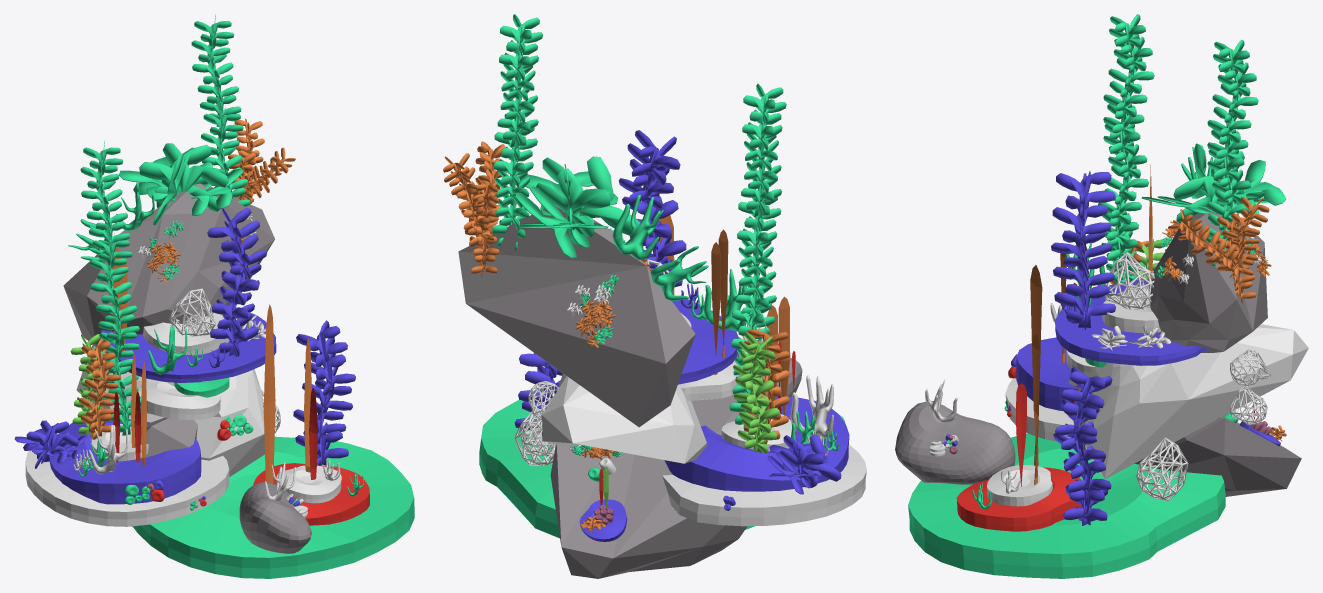
File: Recifes 3.fbx
3 views of the same model, side by side, from view 1: azimuth 30°, elevation 25°; view 2: azimuth 150°, elevation 25°; view 3: azimuth 270°, elevation 25° (orthographic). The views are drawn at different scales.
Visible parts, largest first — view 1: Cylinder.083, Rocha_Grande.003_Icosphere.001, Cylinder.036, Cylinder.035, Rocha_Grande.003_Icosphere.000, Plane.007_Plane.033, Plane.014_Plane.007, Plane.014_Plane.008, Cylinder.041, Sphere.005, Plane.009_Plane.008, Plane.009_Plane.009 (+25 smaller); view 2: Rocha_Grande.003_Icosphere.001, Rocha_Grande.002_Icosphere.012, Rocha_Grande.003_Icosphere.000, Cylinder.036, Plane.007_Plane.033, Cylinder.035, Cylinder.083, Plane.014_Plane.007, Plane.009_Plane.009, Plane.009_Plane.013, Plane.014_Plane.005, Plane.009_Plane.008 (+22 smaller); view 3: Cylinder.083, Rocha_Grande.003_Icosphere.000, Rocha_Grande.003_Icosphere.001, Sphere.005, Rocha_Grande.002_Icosphere.012, Plane.014_Plane.007, Plane.014_Plane.008, Cylinder.041, Cylinder.085, Plane.009_Plane.013, Plane.009_Plane.009, Plane.009_Plane.008 (+17 smaller).
Part boxes in pixels (box(x1,y1,x2,y2)): Cylinder.083: box(133, 436, 414, 578); Rocha_Grande.003_Icosphere.001: box(63, 183, 274, 346); Cylinder.036: box(25, 433, 229, 526); Cylinder.035: box(49, 419, 201, 504); Rocha_Grande.003_Icosphere.000: box(76, 345, 264, 476); Plane.007_Plane.033: box(119, 143, 243, 225); Plane.014_Plane.007: box(207, 207, 266, 356); Plane.014_Plane.008: box(293, 320, 355, 465); Cylinder.041: box(101, 313, 276, 382); Sphere.005: box(239, 482, 311, 553); Plane.009_Plane.008: box(90, 233, 139, 347); Plane.009_Plane.009: box(80, 141, 130, 254); Rocha_Grande.003_Icosphere.001: box(458, 205, 695, 427); Rocha_Grande.002_Icosphere.012: box(550, 394, 747, 578); Rocha_Grande.003_Icosphere.000: box(542, 373, 707, 463); Cylinder.036: box(662, 444, 866, 526); Plane.007_Plane.033: box(515, 156, 640, 258); Cylinder.035: box(664, 396, 849, 491); Cylinder.083: box(479, 390, 754, 538); Plane.014_Plane.007: box(619, 130, 686, 287); Plane.009_Plane.009: box(741, 83, 786, 218); Plane.009_Plane.013: box(497, 14, 542, 148); Plane.014_Plane.005: box(733, 332, 779, 453); Plane.009_Plane.008: box(736, 197, 781, 324); Cylinder.083: box(908, 433, 1225, 578); Rocha_Grande.003_Icosphere.000: box(1080, 324, 1308, 479); Rocha_Grande.003_Icosphere.001: box(1150, 203, 1267, 352); Sphere.005: box(895, 402, 1015, 484); Rocha_Grande.002_Icosphere.012: box(1068, 379, 1301, 496); Plane.014_Plane.007: box(1051, 171, 1115, 329); Plane.014_Plane.008: box(1053, 366, 1112, 525); Cylinder.041: box(1054, 279, 1209, 365); Cylinder.085: box(956, 467, 1082, 531); Plane.009_Plane.013: box(1207, 39, 1258, 169); Plane.009_Plane.009: box(1103, 14, 1154, 143); Plane.009_Plane.008: box(1098, 123, 1149, 250).
Bounding box in the file's own units: 919 × 1226 × 910.
